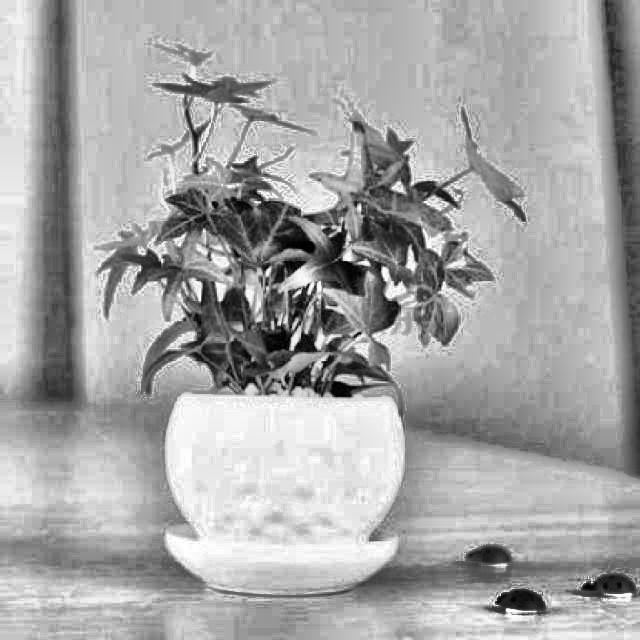plants: (138, 58, 448, 586)
